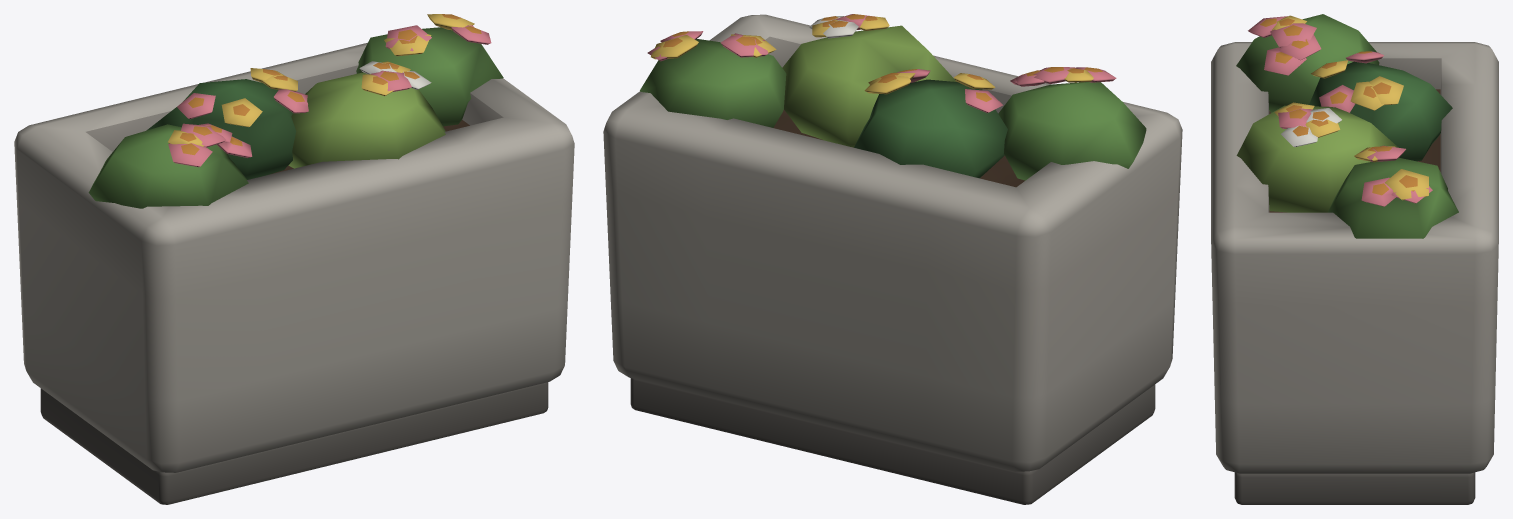
Rendered from Planter1.fbx.
3 views of the same model, side by side, from view 1: azimuth 30°, elevation 25°; view 2: azimuth 150°, elevation 25°; view 3: azimuth 270°, elevation 25° (orthographic). The views are drawn at different scales.
Visible parts, largest first — view 1: Planter1; view 2: Planter1; view 3: Planter1.
Boxes of the visible parts, left/top/right/bottom form: Planter1: left=14, top=14, right=574, bottom=504; Planter1: left=603, top=14, right=1182, bottom=504; Planter1: left=1211, top=14, right=1498, bottom=504.
Size of the model in its own units: 1.01 by 0.7632 by 0.5983.
